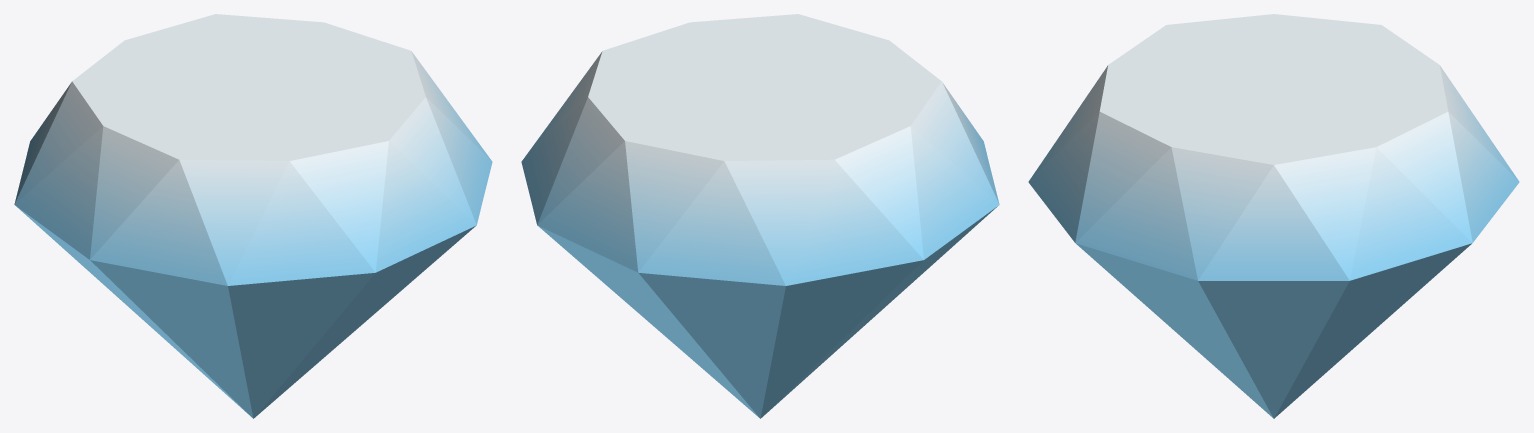
Rendered from Diamond1.fbx.
3 views of the same model, side by side, from view 1: azimuth 30°, elevation 25°; view 2: azimuth 150°, elevation 25°; view 3: azimuth 270°, elevation 25° (orthographic).
Visible parts, largest first — view 1: Diamond 1; view 2: Diamond 1; view 3: Diamond 1.
Part boxes in pixels (x1,y1,x2,y2): Diamond 1: [14, 14, 492, 418]; Diamond 1: [521, 14, 999, 418]; Diamond 1: [1028, 14, 1519, 418].
Size of the model in its own units: 0.0902 by 0.0706 by 0.0949.
Materials: 1 (1 with a texture image).
